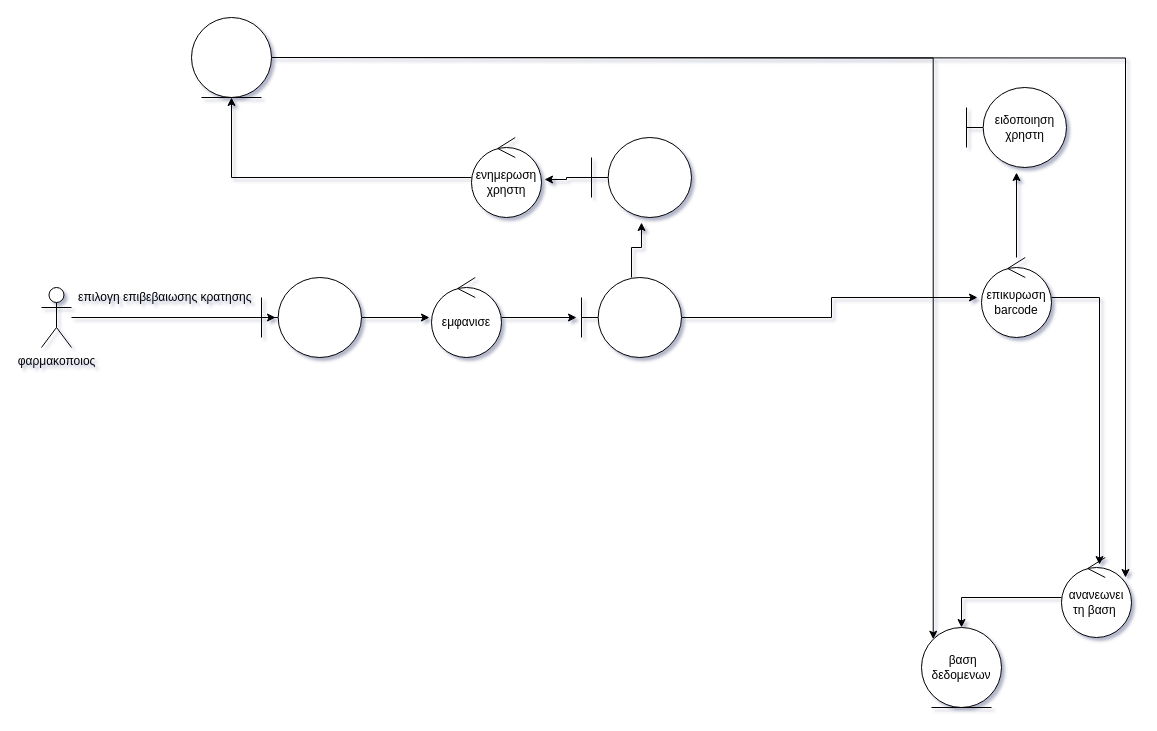
The diagram is 1157 pixels wide and 731 high, and some of its shapes have lost their labels. The box of each missing label's shape, as (x1, y1, x2, y2) in pixels:
ακυρωση ραντεβου: (590, 136, 692, 218)
μενου: (260, 276, 362, 358)
μηνυμα μη διαθεσιμοτητας: (190, 16, 272, 98)
οθονη εκκρεμων αιτηματων για επιβεβαιωση: (580, 276, 682, 358)
